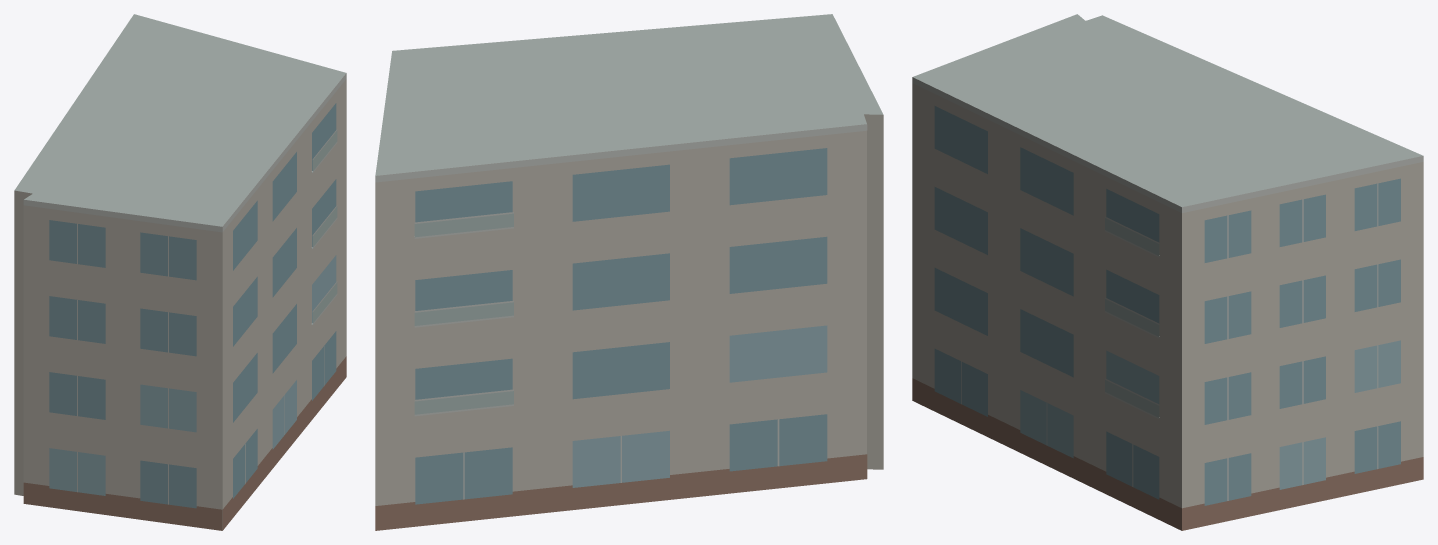
The model's file is survey-upis-32837967.glb.
3 views of the same model, side by side, from view 1: azimuth 30°, elevation 25°; view 2: azimuth 150°, elevation 25°; view 3: azimuth 270°, elevation 25° (orthographic). The views are drawn at different scales.
Parts seen in each view (by area): view 1: survey-upis-32837967.tmp; view 2: survey-upis-32837967.tmp; view 3: survey-upis-32837967.tmp.
Boxes of the visible parts, <box> form: survey-upis-32837967.tmp: <box>14,14,346,530</box>; survey-upis-32837967.tmp: <box>375,14,883,530</box>; survey-upis-32837967.tmp: <box>912,14,1423,530</box>.
Bounding box in the file's own units: 16.91 × 13.2 × 18.9.
